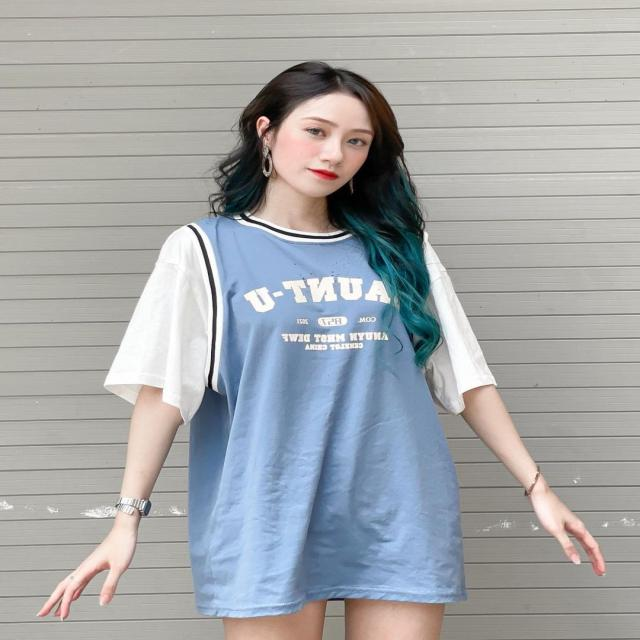clothes: (110, 203, 497, 617)
